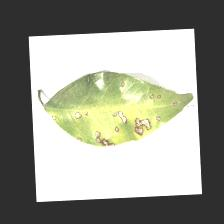canker: (58, 72, 161, 163)
